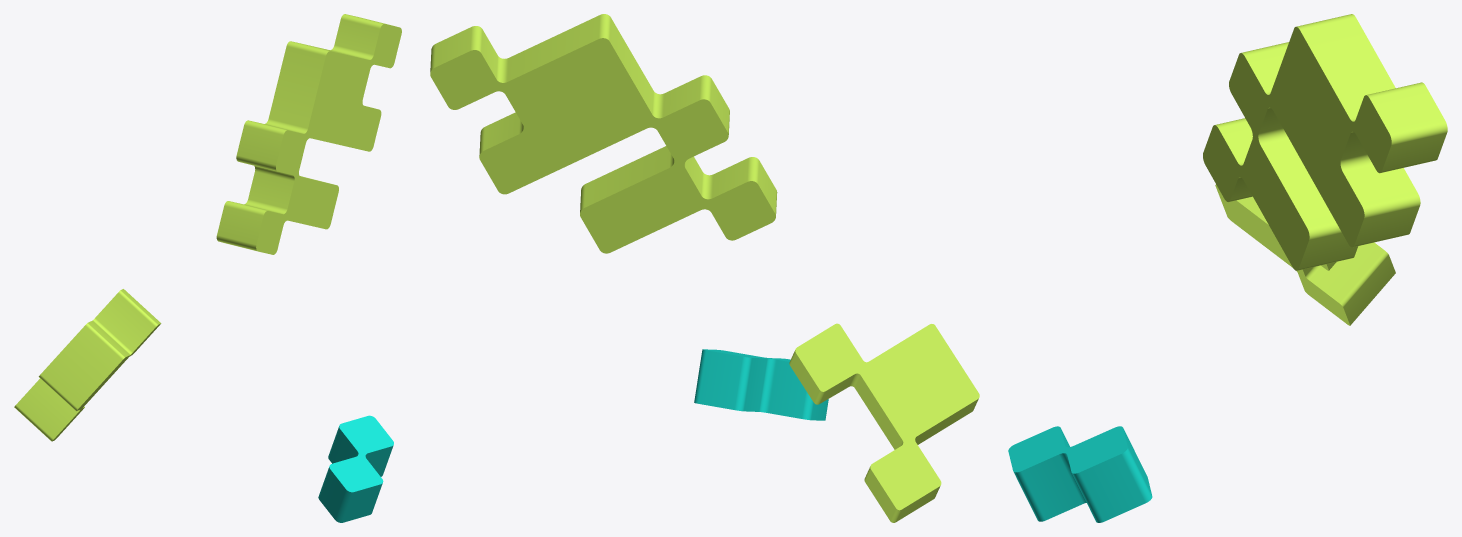
The model's file is homepage.gltf.
3 renders of one model, left to right at view 1: azimuth 30°, elevation 25°; view 2: azimuth 150°, elevation 25°; view 3: azimuth 270°, elevation 25°, orthographic. The views are drawn at different scales.
Parts seen in each view (by area): view 1: Shape 0 (×3); view 2: Shape 0 (×3); view 3: Shape 0 (×3).
Boxes of the visible parts, x1,y1,x2,y2 form: Shape 0 (×3): [14, 14, 401, 522]; Shape 0 (×3): [430, 14, 979, 522]; Shape 0 (×3): [1008, 14, 1447, 522].
Bounding box in the file's own units: 8.5 × 7.65 × 5.76.
